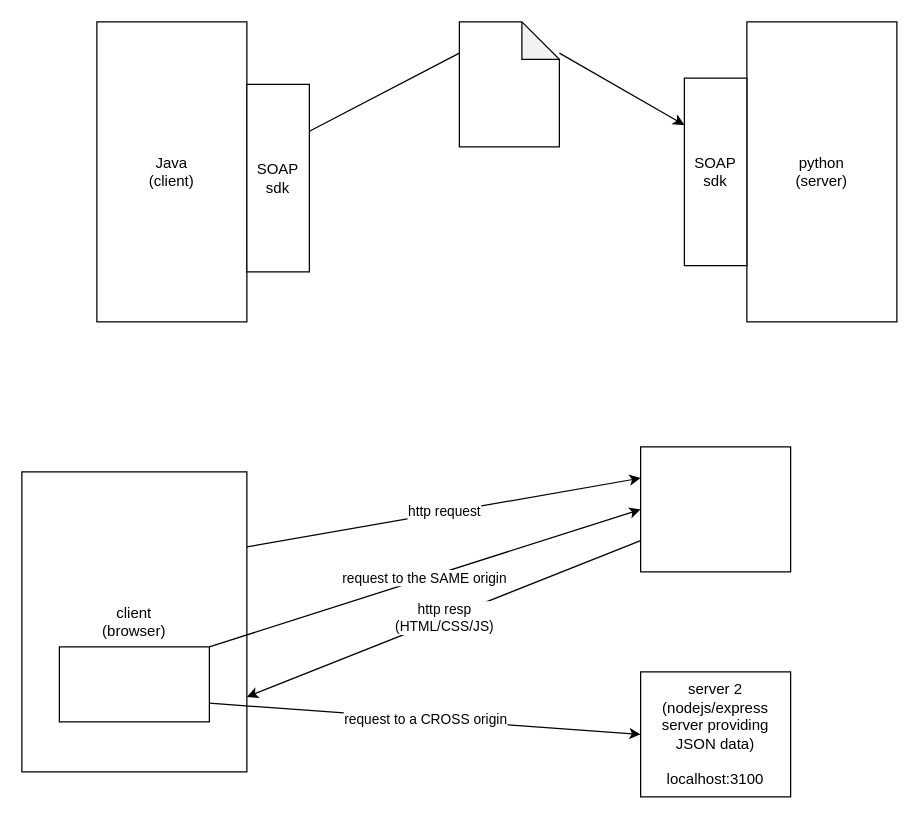
Image size: 919x819. Some labels were removed from this diagram. Each missing label, with the centre of its shape:
"JS Code" goes at (133,684).
"server 1 (react app is being served) localhost:3000" goes at (715,509).
"soap request" goes at (508,84).
